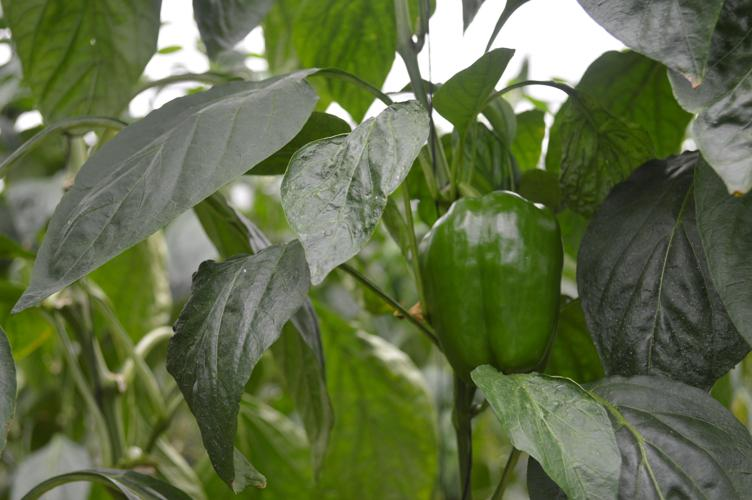BellPepper: (410, 194, 585, 389)
